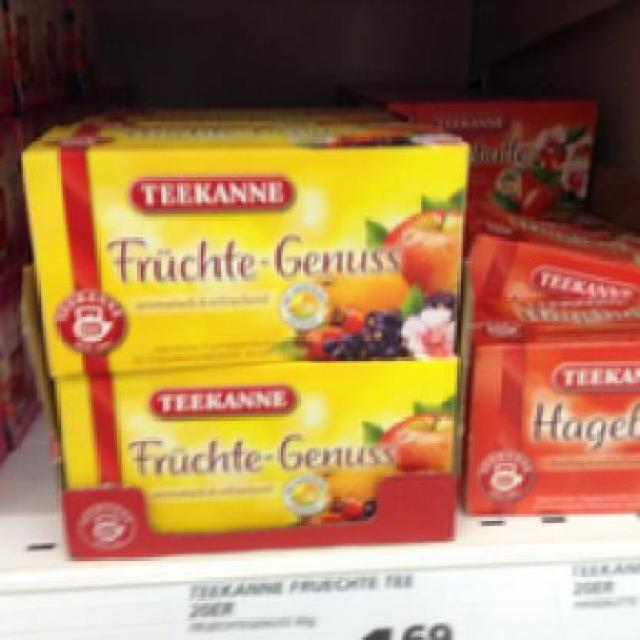Tea: (17, 120, 472, 369), (49, 357, 452, 534), (460, 294, 637, 514)
